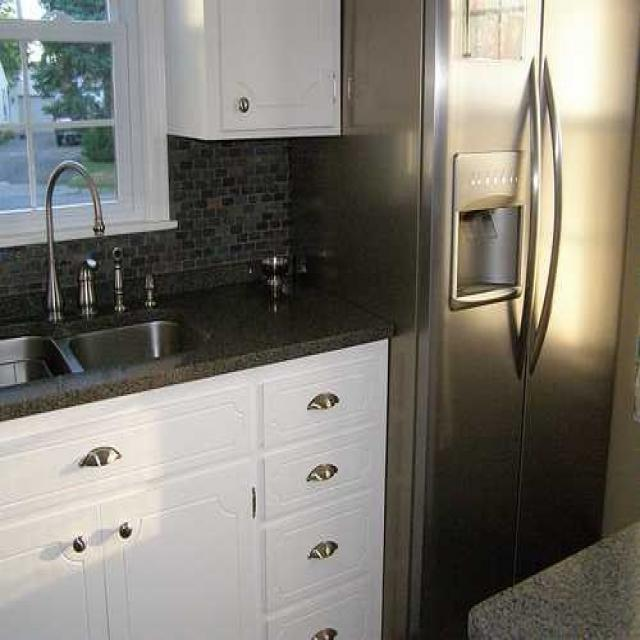refrigerator: (424, 0, 631, 640)
